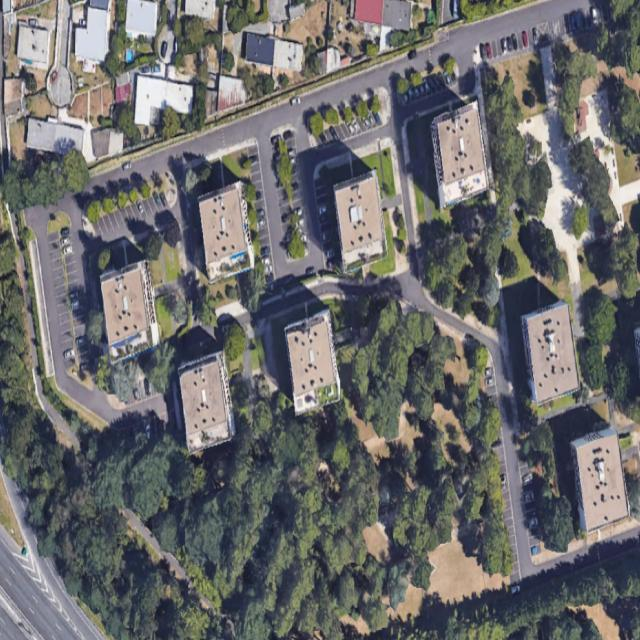immeuble: (566, 426, 632, 535), (425, 103, 491, 211), (516, 298, 582, 406), (97, 259, 162, 366), (282, 308, 343, 417), (175, 349, 238, 454), (194, 180, 257, 284), (332, 168, 389, 273)
